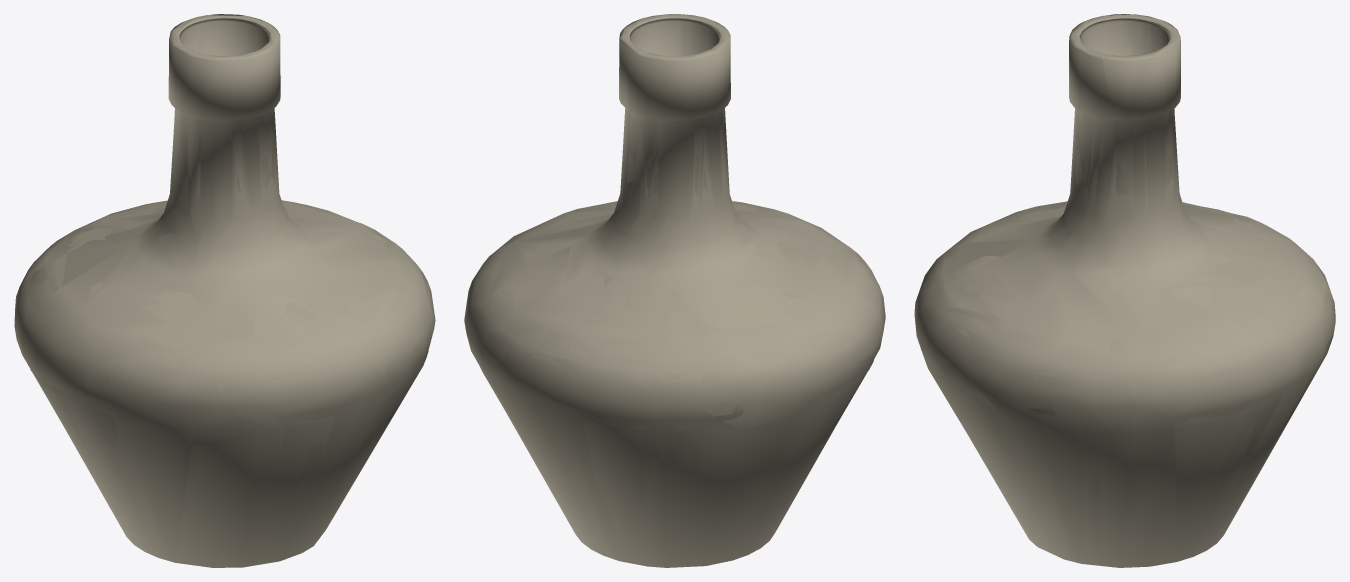
The model's file is ampoule.obj.
3 renders of one model, left to right at view 1: azimuth 30°, elevation 25°; view 2: azimuth 150°, elevation 25°; view 3: azimuth 270°, elevation 25°, orthographic.
Visible parts, largest first — view 1: Plane; view 2: Plane; view 3: Plane.
Part boxes in pixels (x1,y1,x2,y2): Plane: [14, 14, 435, 567]; Plane: [464, 14, 885, 567]; Plane: [914, 14, 1335, 567].
Size of the model in its own units: 2.4 by 3.07 by 2.4.
